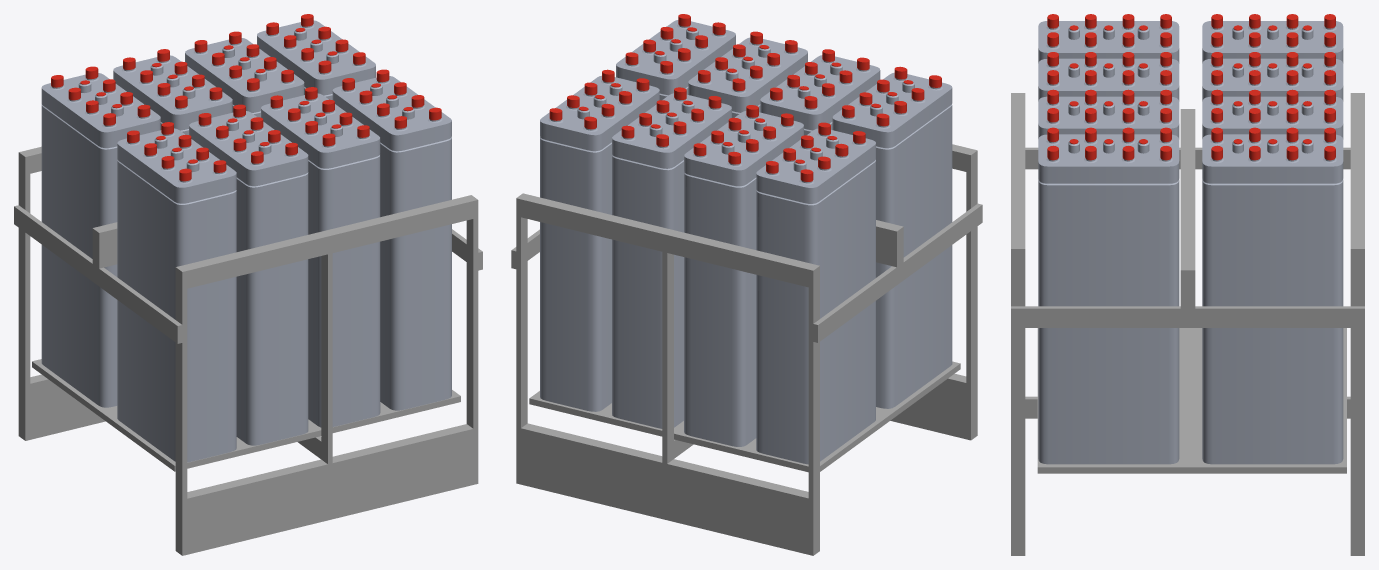
The picture shows the model from 3 angles, left to right: view 1: azimuth 30°, elevation 25°; view 2: azimuth 150°, elevation 25°; view 3: azimuth 270°, elevation 25°; orthographic projection. The views are drawn at different scales.
Visible parts, largest first — view 1: RM1-BH08W070D065; view 2: RM1-BH08W070D065; view 3: RM1-BH08W070D065.
Boxes of the visible parts, x1=… form: RM1-BH08W070D065: x1=14, y1=14, x2=482, y2=555; RM1-BH08W070D065: x1=511, y1=14, x2=982, y2=555; RM1-BH08W070D065: x1=1011, y1=14, x2=1364, y2=555.
Size of the model in its own units: 0.7 by 0.8 by 0.65.
